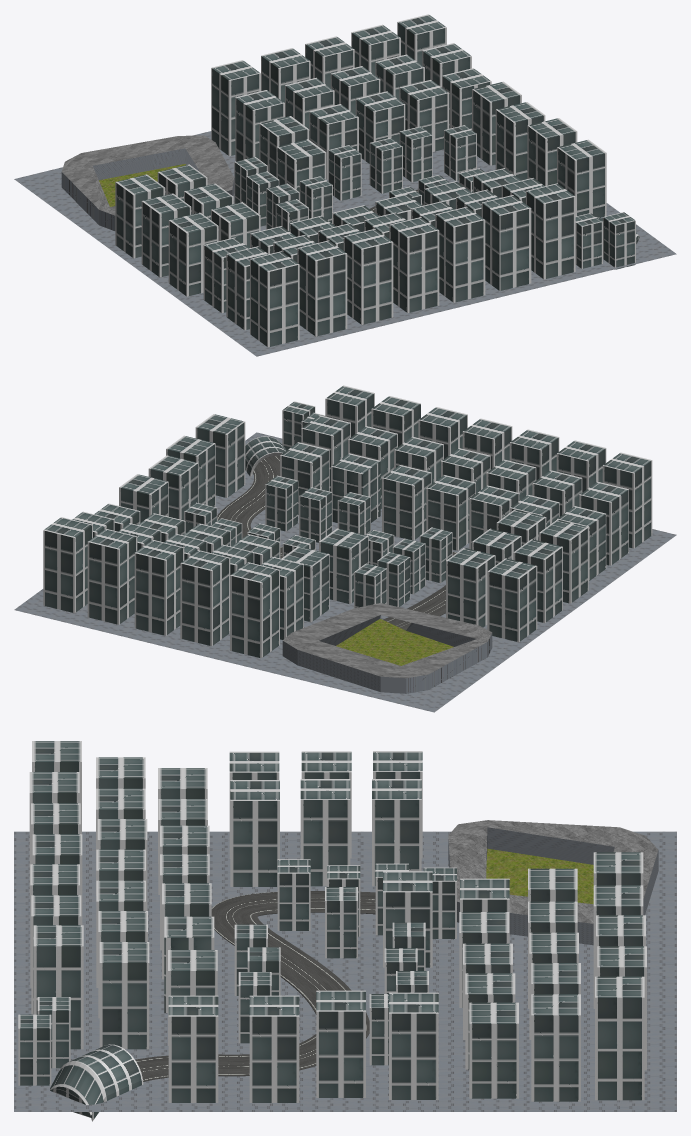
The model's file is city.gltf.
3 views of the same model, one above another, from view 1: azimuth 30°, elevation 25°; view 2: azimuth 150°, elevation 25°; view 3: azimuth 270°, elevation 25° (orthographic). The views are drawn at different scales.
Visible parts, largest first — view 1: 平面, 立方体.058, 立方体.039, 立方体.043, 立方体.013, 立方体, 立方体.045, 立方体.002, 立方体.010, 立方体.029, 立方体.044, 立方体.061 (+48 smaller); view 2: 立方体.058, 平面, 立方体.024, 立方体.061, 立方体.031, 立方体.033, 立方体.021, 立方体.049, 立方体.003, 立方体.047, 立方体.039, 立方体.029 (+49 smaller); view 3: 平面, 立方体.058, NURBSパス.002, 立方体.021, 立方体.034, 立方体.029, 立方体.006, 立方体.025, 立方体.035, 立方体.023, 立方体.050, 立方体.020 (+53 smaller).
Boxes of the visible parts, x1=… form: 平面: x1=14, y1=131, x2=676, y2=356; 立方体.058: x1=61, y1=135, x2=234, y2=230; 立方体.039: x1=250, y1=251, x2=299, y2=347; 立方体.043: x1=297, y1=240, x2=347, y2=336; 立方体.013: x1=389, y1=217, x2=439, y2=312; 立方体: x1=481, y1=195, x2=531, y2=290; 立方体.045: x1=343, y1=229, x2=393, y2=324; 立方体.002: x1=435, y1=206, x2=485, y2=302; 立方体.010: x1=526, y1=183, x2=575, y2=279; 立方体.029: x1=557, y1=139, x2=606, y2=217; 立方体.044: x1=168, y1=212, x2=218, y2=296; 立方体.061: x1=211, y1=60, x2=260, y2=156; 立方体.058: x1=282, y1=603, x2=492, y2=693; 平面: x1=14, y1=432, x2=676, y2=712; 立方体.024: x1=180, y1=550, x2=230, y2=646; 立方体.061: x1=230, y1=562, x2=279, y2=658; 立方体.031: x1=87, y1=529, x2=137, y2=624; 立方体.033: x1=134, y1=540, x2=184, y2=635; 立方体.021: x1=43, y1=517, x2=92, y2=613; 立方体.049: x1=487, y1=558, x2=537, y2=642; 立方体.003: x1=382, y1=465, x2=431, y2=540; 立方体.047: x1=446, y1=548, x2=495, y2=627; 立方体.039: x1=602, y1=452, x2=652, y2=548; 立方体.029: x1=195, y1=414, x2=245, y2=497; 平面: x1=14, y1=831, x2=676, y2=1111; 立方体.058: x1=448, y1=820, x2=658, y2=945; NURBSパス.002: x1=135, y1=891, x2=375, y2=1081; 立方体.021: x1=595, y1=976, x2=644, y2=1100; 立方体.034: x1=249, y1=995, x2=299, y2=1102; 立方体.029: x1=168, y1=995, x2=218, y2=1102; 立方体.006: x1=99, y1=942, x2=149, y2=1049; 立方体.025: x1=531, y1=994, x2=580, y2=1101; 立方体.035: x1=316, y1=990, x2=365, y2=1097; 立方体.023: x1=389, y1=992, x2=438, y2=1099; 立方体.050: x1=230, y1=780, x2=279, y2=886; 立方体.020: x1=469, y1=1002, x2=518, y2=1098.
Bounding box in the file's own units: 2000 × 394 × 2000.
Materials: 8 (8 with a texture image).
